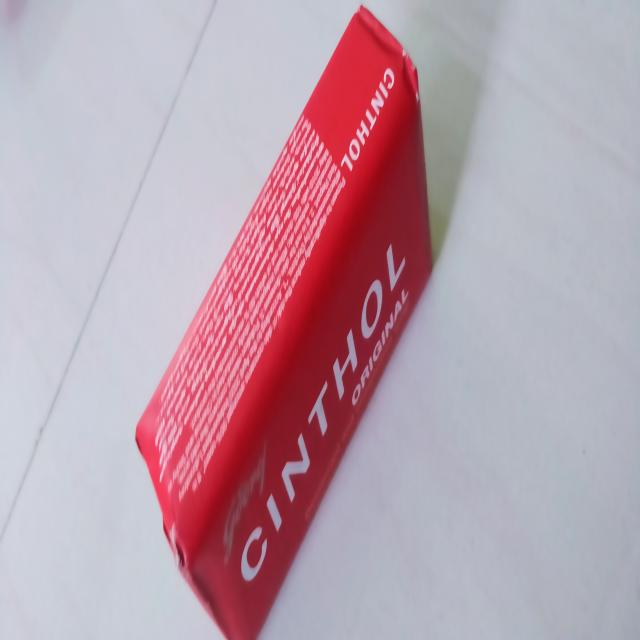soap: (129, 4, 434, 640)
